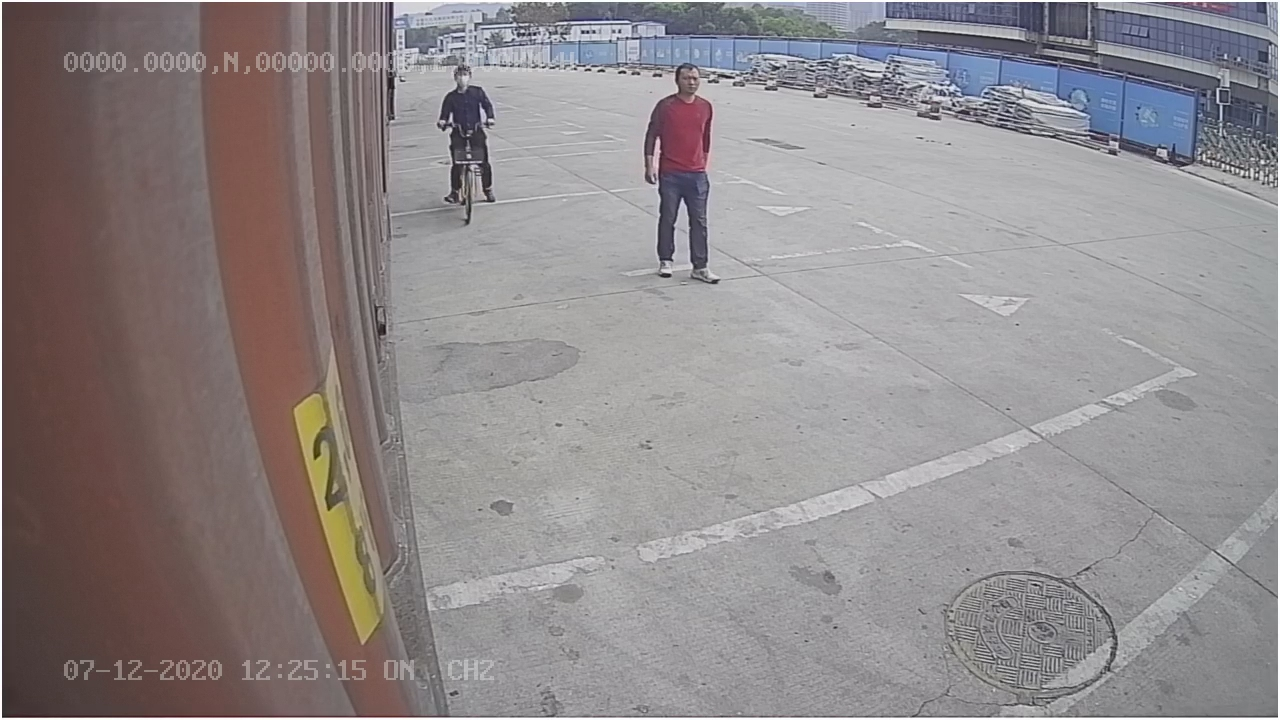person: (638, 60, 727, 288)
